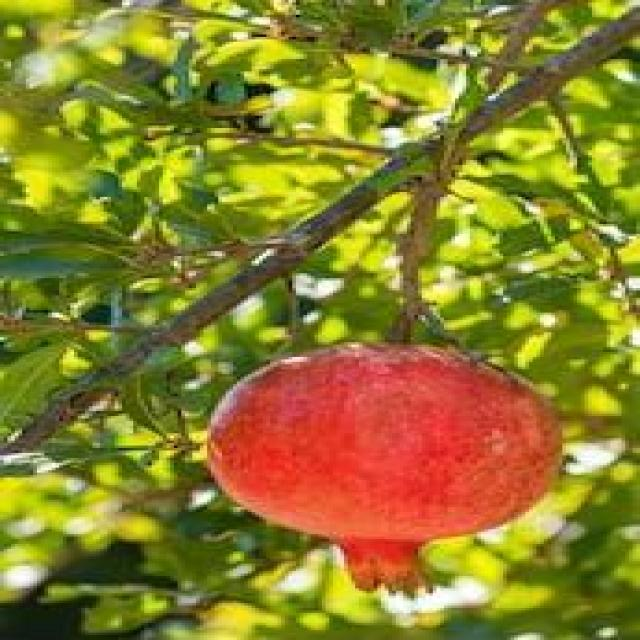Pomegranate: (202, 335, 561, 600)
